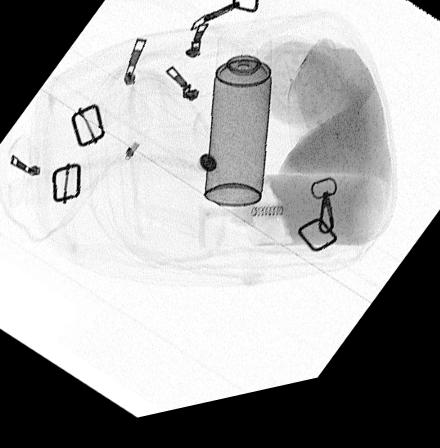Sprayer: (205, 38, 269, 217)
